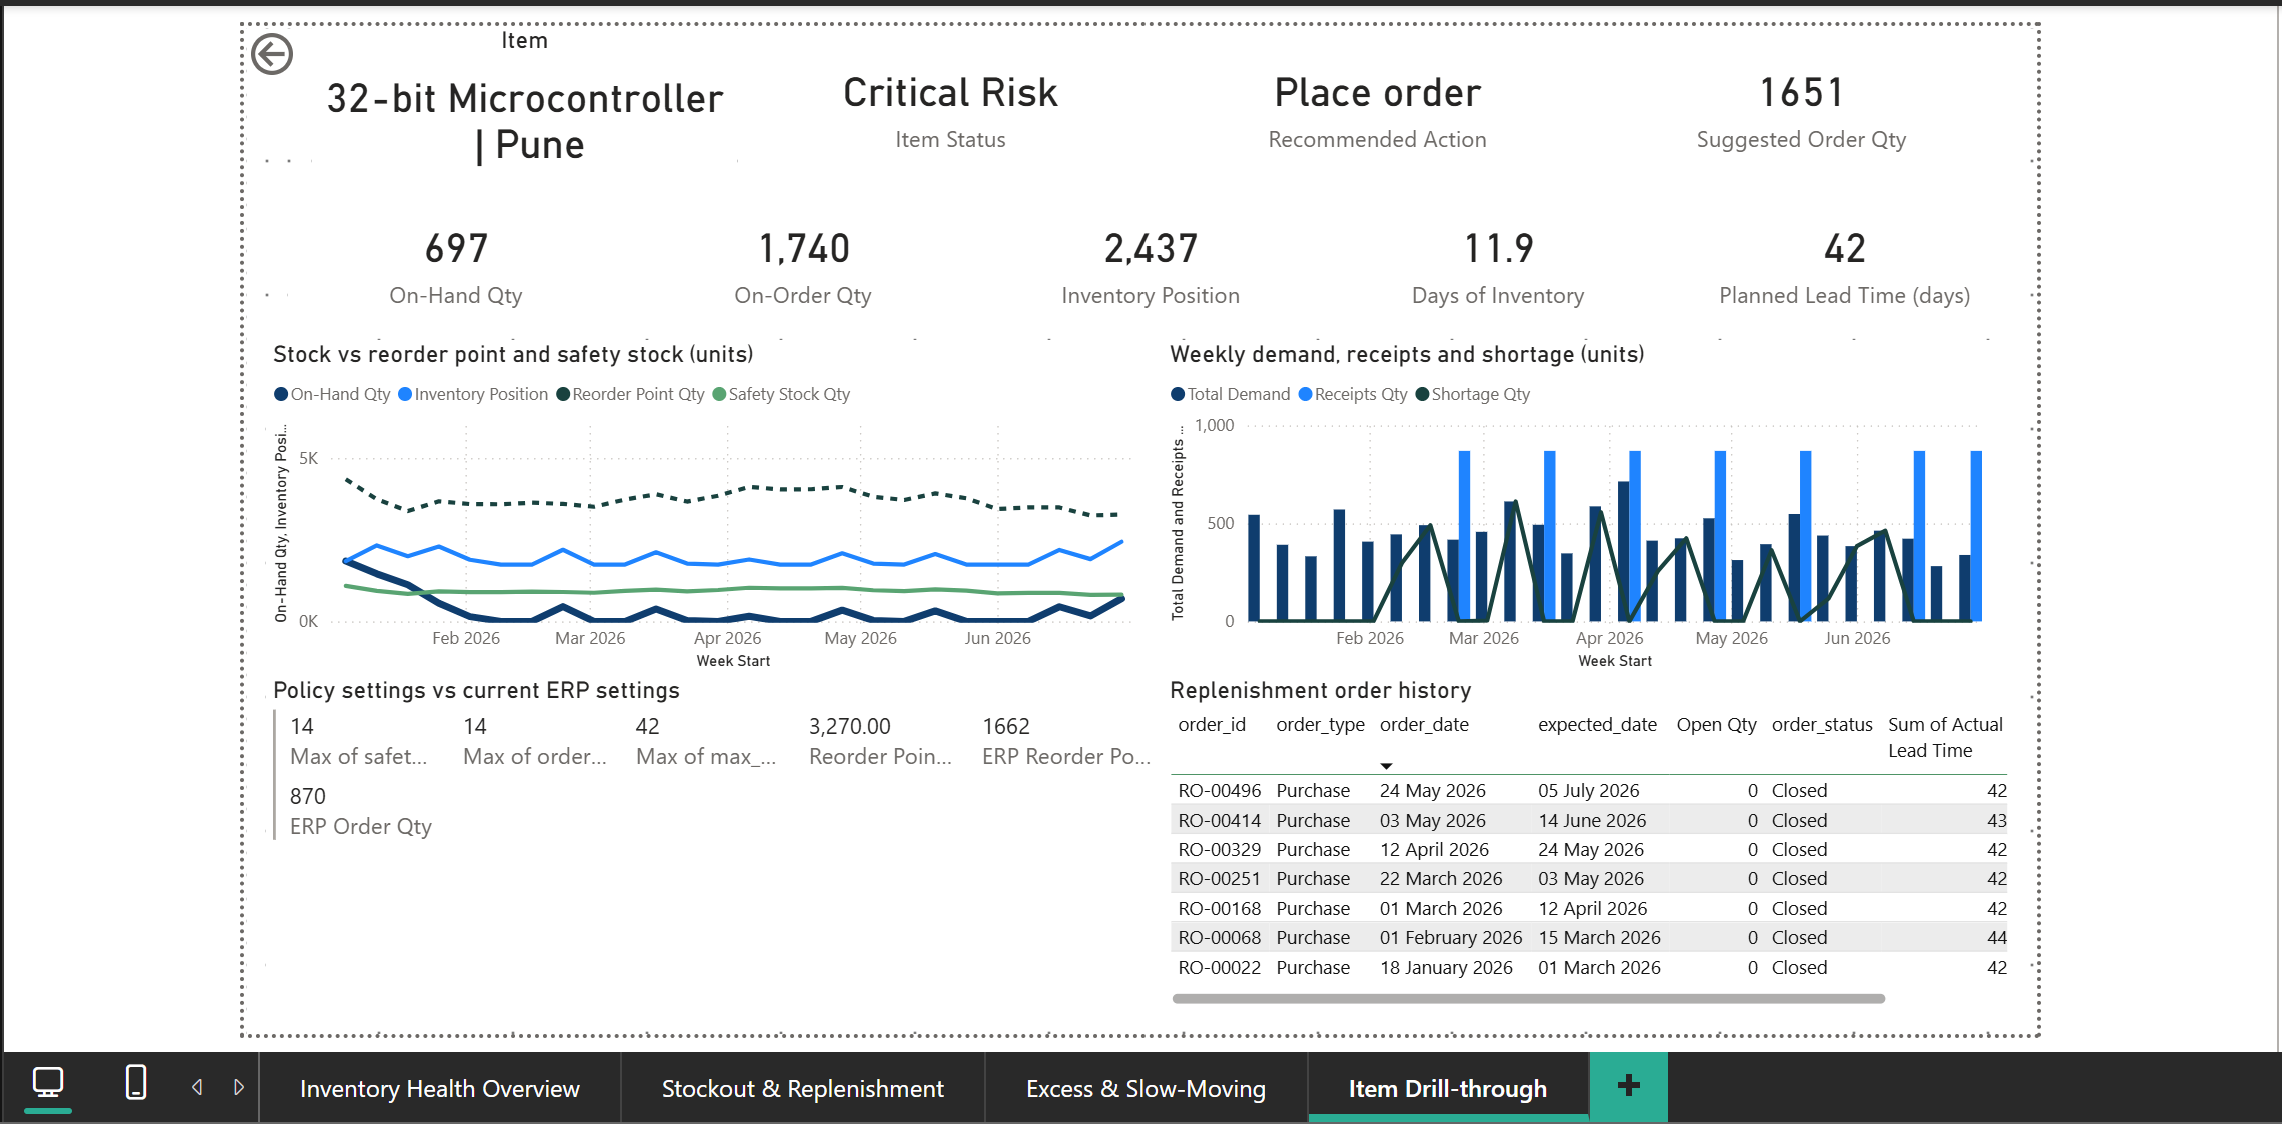

What the dashboard file says about the page in this screenshot:
{"tool":"powerbi","page":{"name":"Item Drill-through","canvas":[1280,720],"ordinal":3},"visuals":[{"type":"actionButton","box":[0,0,100,40],"z":0},{"type":"card","title":"Item","fields":{"Values":["Min(dim_item_location.Item Label)"]},"box":[48,0,304,112],"z":0,"group":"g1"},{"type":"card","fields":{"Values":["_Measures.On-Hand Qty"]},"box":[32,112,240,112],"z":0,"group":"g2"},{"type":"group","id":"g1","title":"Group 1","box":[48,0,1216,112],"z":1000},{"type":"card","fields":{"Values":["_Measures.Item Status"]},"box":[352,0,304,112],"z":1000,"group":"g1"},{"type":"card","fields":{"Values":["_Measures.On-Order Qty"]},"box":[272,112,256,112],"z":1000,"group":"g2"},{"type":"card","fields":{"Values":["_Measures.Recommended Action"]},"box":[656,0,304,112],"z":2000,"group":"g1"},{"type":"group","id":"g2","title":"Group 2","box":[32,112,1232,112],"z":2000},{"type":"card","fields":{"Values":["_Measures.Inventory Position"]},"box":[512,112,272,112],"z":2000,"group":"g2"},{"type":"card","fields":{"Values":["_Measures.Suggested Order Qty"]},"box":[960,0,304,112],"z":3000,"group":"g1"},{"type":"card","fields":{"Values":["_Measures.Days of Inventory"]},"box":[768,112,256,112],"z":3000,"group":"g2"},{"type":"lineChart","title":"Stock vs reorder point and safety stock (units)","fields":{"Category":["dim_date.Week Start"],"Y":["_Measures.On-Hand Qty","_Measures.Inventory Position","_Measures.Reorder Point Qty","_Measures.Safety Stock Qty"]},"box":[16,224,640,240],"z":3000},{"type":"card","fields":{"Values":["_Measures.Planned Lead Time (days)"]},"box":[1024,112,240,112],"z":4000,"group":"g2"},{"type":"lineClusteredColumnComboChart","title":"Weekly demand, receipts and shortage (units)","fields":{"Category":["dim_date.Week Start"],"Y":["_Measures.Total Demand","_Measures.Receipts Qty"],"Y2":["_Measures.Shortage Qty"]},"box":[656,224,608,240],"z":4000},{"type":"multiRowCard","title":"Policy settings vs current ERP settings","fields":{"Values":["Max(dim_item_location.safety_stock_days)","Max(dim_item_location.order_cycle_days)","Max(dim_item_location.max_cover_days)","_Measures.Reorder Point Qty","_Measures.ERP Reorder Point Qty","_Measures.ERP Order Qty"]},"box":[16,464,640,240],"z":5000},{"type":"tableEx","title":"Replenishment order history","fields":{"Values":["fact_replenishment_orders.order_id","fact_replenishment_orders.order_type","fact_replenishment_orders.order_date","fact_replenishment_orders.expected_date","fact_replenishment_orders.Open Qty","fact_replenishment_orders.order_status","Sum(fact_replenishment_orders.Actual Lead Time)","Sum(fact_replenishment_orders.Lead Time Variance)"]},"box":[656,464,608,240],"z":6000}]}

Visuals, with their boxes on the page's 1280x720 design canvas (x1, y1, x2, y2). These are canvas units, not pixel positions in the 2282x1124 screenshot, which may show the page scaled, cropped or inside an application window:
actionButton: (x1=0, y1=0, x2=100, y2=40)
"Item" card: (x1=48, y1=0, x2=352, y2=112)
card - _Measures.On-Hand Qty: (x1=32, y1=112, x2=272, y2=224)
"Group 1" group: (x1=48, y1=0, x2=1264, y2=112)
card - _Measures.Item Status: (x1=352, y1=0, x2=656, y2=112)
card - _Measures.On-Order Qty: (x1=272, y1=112, x2=528, y2=224)
card - _Measures.Recommended Action: (x1=656, y1=0, x2=960, y2=112)
"Group 2" group: (x1=32, y1=112, x2=1264, y2=224)
card - _Measures.Inventory Position: (x1=512, y1=112, x2=784, y2=224)
card - _Measures.Suggested Order Qty: (x1=960, y1=0, x2=1264, y2=112)
card - _Measures.Days of Inventory: (x1=768, y1=112, x2=1024, y2=224)
"Stock vs reorder point and safety stock (units)" lineChart: (x1=16, y1=224, x2=656, y2=464)
card - _Measures.Planned Lead Time (days): (x1=1024, y1=112, x2=1264, y2=224)
"Weekly demand, receipts and shortage (units)" lineClusteredColumnComboChart: (x1=656, y1=224, x2=1264, y2=464)
"Policy settings vs current ERP settings" multiRowCard: (x1=16, y1=464, x2=656, y2=704)
"Replenishment order history" tableEx: (x1=656, y1=464, x2=1264, y2=704)
